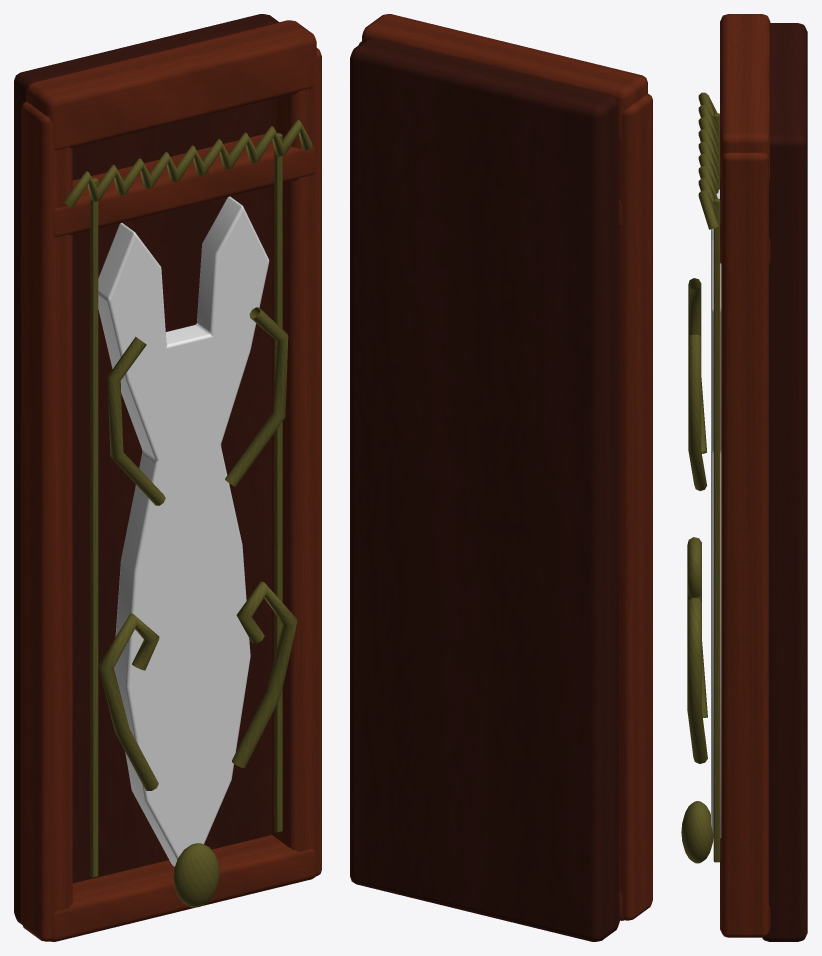
Rendered from 05_GothicWallPanel_Mirrored.fbx.
The picture shows the model from 3 angles, left to right: view 1: azimuth 30°, elevation 25°; view 2: azimuth 150°, elevation 25°; view 3: azimuth 270°, elevation 25°; orthographic projection. The views are drawn at different scales.
Visible parts, largest first — view 1: Raised black organic center ornament.002, Panel backing.002, Thick carved frame stile.004, Thick carved frame stile.005, Panel frame rail.008, Panel frame rail.006, Panel frame rail.007, Brass inner line.004, Brass inner line.005, Curled green-brass ornament.005, Curled green-brass ornament.004, Upper tendril.005 (+2 smaller); view 2: Panel backing.002, Thick carved frame stile.004, Panel frame rail.008; view 3: Thick carved frame stile.005, Panel backing.002, Panel frame rail.008, Brass inner line.005, Raised black organic center ornament.002, Curled green-brass ornament.005, Upper tendril.005, Panel lower finial.002, Curled green-brass ornament.004, Upper tendril.004, Scalloped crown arch.026.
Part boxes in pixels (left/top/right/bottom): Raised black organic center ornament.002: left=98, top=196, right=269, bottom=866; Panel backing.002: left=14, top=14, right=278, bottom=924; Thick carved frame stile.004: left=21, top=101, right=72, bottom=941; Thick carved frame stile.005: left=272, top=48, right=321, bottom=876; Panel frame rail.008: left=26, top=20, right=316, bottom=150; Panel frame rail.006: left=50, top=835, right=316, bottom=941; Panel frame rail.007: left=52, top=134, right=315, bottom=237; Brass inner line.004: left=90, top=178, right=98, bottom=877; Brass inner line.005: left=274, top=133, right=282, bottom=832; Curled green-brass ornament.005: left=232, top=581, right=297, bottom=768; Curled green-brass ornament.004: left=98, top=613, right=159, bottom=790; Upper tendril.005: left=225, top=307, right=288, bottom=486; Panel backing.002: left=350, top=37, right=619, bottom=941; Thick carved frame stile.004: left=619, top=93, right=652, bottom=920; Panel frame rail.008: left=362, top=14, right=647, bottom=141; Thick carved frame stile.005: left=721, top=152, right=768, bottom=937; Panel backing.002: left=762, top=23, right=807, bottom=941; Panel frame rail.008: left=720, top=14, right=770, bottom=181; Brass inner line.005: left=713, top=198, right=720, bottom=862; Raised black organic center ornament.002: left=711, top=189, right=721, bottom=837; Curled green-brass ornament.005: left=687, top=597, right=707, bottom=763; Upper tendril.005: left=688, top=334, right=706, bottom=490; Panel lower finial.002: left=681, top=801, right=713, bottom=863; Curled green-brass ornament.004: left=687, top=537, right=707, bottom=717; Upper tendril.004: left=688, top=278, right=706, bottom=453; Scalloped crown arch.026: left=698, top=190, right=718, bottom=229.
Bounding box in the file's own units: 1.04 × 3.02 × 0.425.
4 materials, 3 textured.
